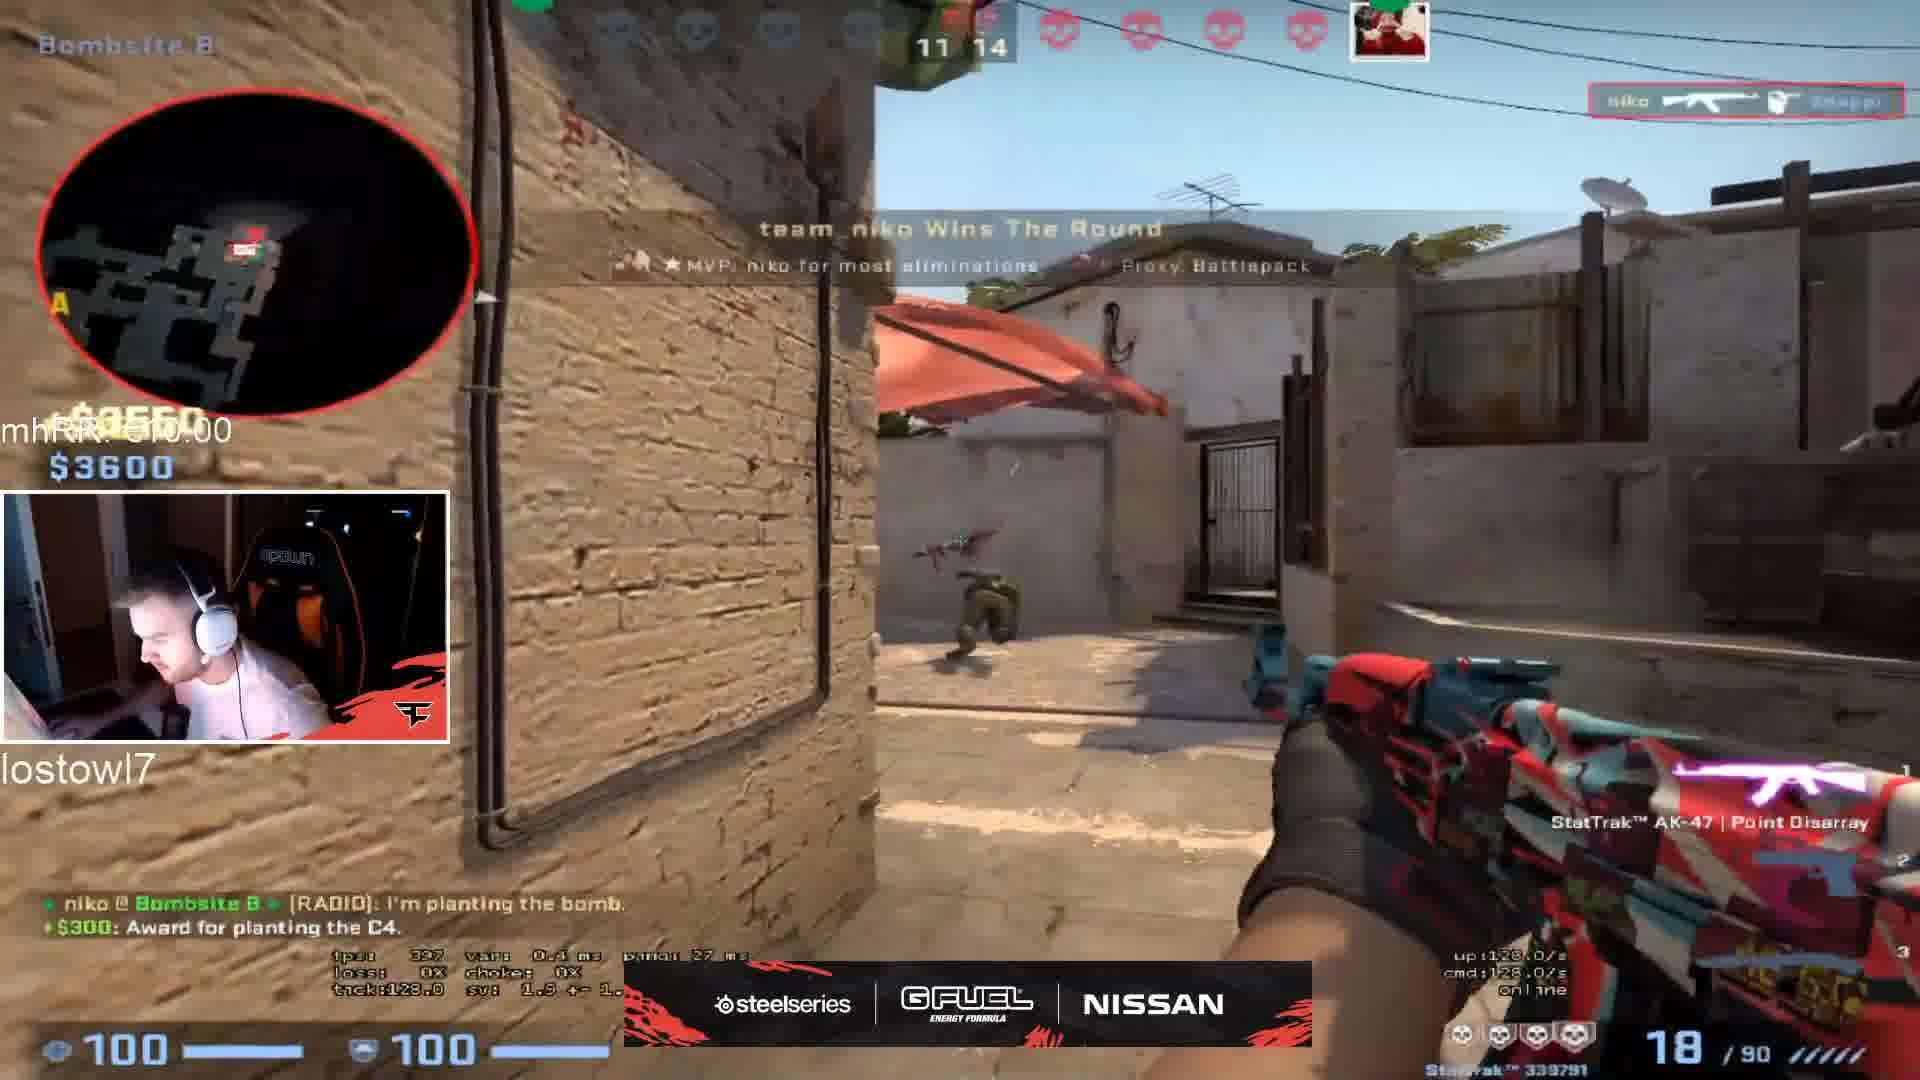enemy: (949, 560, 1029, 651)
